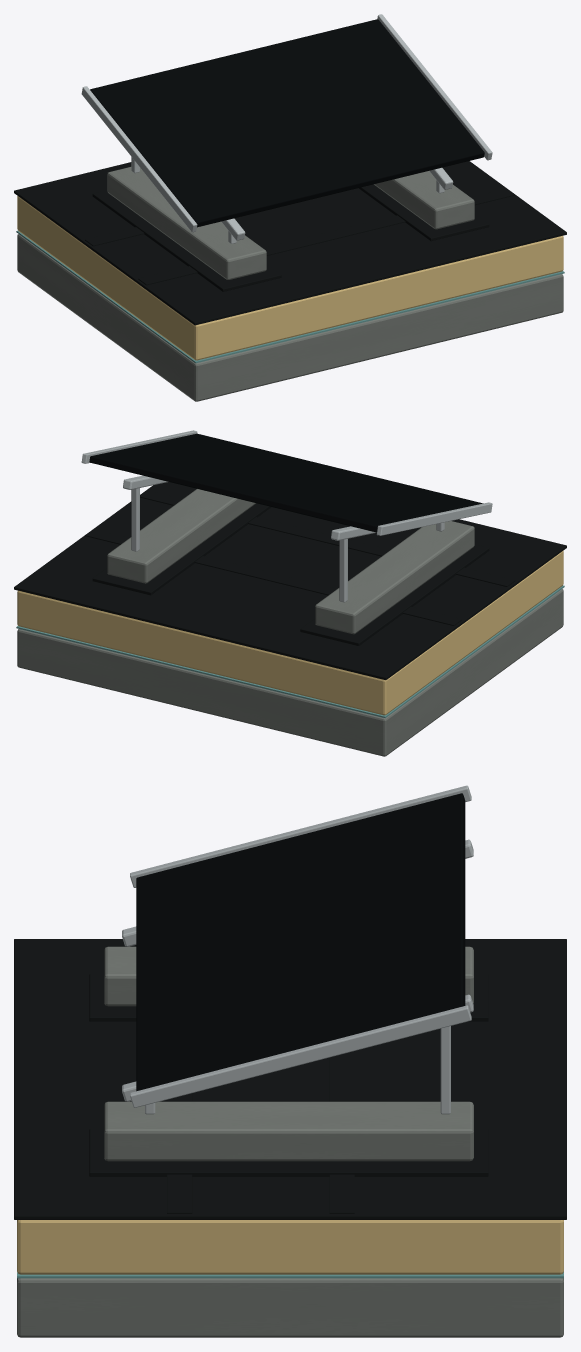
Rendered from modell.glb.
The picture shows the model from 3 angles, top to bottom: view 1: azimuth 30°, elevation 25°; view 2: azimuth 150°, elevation 25°; view 3: azimuth 270°, elevation 25°; orthographic projection. The views are drawn at different scales.
Visible parts, largest first — view 1: a01-modul_, a01-abdichtung_deckung, a01-untergrund_tragwerk, a01-daemmung_daemmung, a01-untergrund_, a01-wetteranschluss_deckung, a01-modul_.001, a01-naht_deckung, a01-luftdichtheit_luftdichtheit, a01-schiene_; view 2: a01-abdichtung_deckung, a01-untergrund_tragwerk, a01-daemmung_daemmung, a01-modul_, a01-untergrund_, a01-wetteranschluss_deckung, a01-naht_deckung, a01-modul_.001, a01-luftdichtheit_luftdichtheit, a01-halter_, a01-schiene_; view 3: a01-abdichtung_deckung, a01-modul_, a01-untergrund_tragwerk, a01-daemmung_daemmung, a01-untergrund_, a01-wetteranschluss_deckung, a01-modul_.001, a01-naht_deckung, a01-luftdichtheit_luftdichtheit, a01-halter_, a01-schiene_.
Boxes of the visible parts, box(x1,y1,x2,y2) form: a01-modul_: box(90, 19, 484, 227); a01-abdichtung_deckung: box(14, 161, 566, 325); a01-untergrund_tragwerk: box(17, 234, 563, 401); a01-daemmung_daemmung: box(17, 196, 563, 360); a01-untergrund_: box(107, 167, 474, 279); a01-wetteranschluss_deckung: box(92, 184, 489, 291); a01-modul_.001: box(81, 14, 492, 232); a01-naht_deckung: box(85, 188, 515, 285); a01-luftdichtheit_luftdichtheit: box(16, 230, 564, 363); a01-schiene_: box(221, 167, 453, 240); a01-abdichtung_deckung: box(14, 482, 566, 680); a01-untergrund_tragwerk: box(17, 589, 563, 756); a01-daemmung_daemmung: box(17, 550, 563, 715); a01-modul_: box(89, 433, 483, 532); a01-untergrund_: box(107, 489, 474, 634); a01-wetteranschluss_deckung: box(92, 503, 489, 645); a01-naht_deckung: box(85, 490, 515, 625); a01-modul_.001: box(81, 430, 492, 535); a01-luftdichtheit_luftdichtheit: box(16, 585, 564, 718); a01-halter_: box(131, 488, 444, 602); a01-schiene_: box(123, 475, 376, 540); a01-abdichtung_deckung: box(14, 939, 566, 1219); a01-modul_: box(136, 793, 465, 1091); a01-untergrund_tragwerk: box(17, 1278, 563, 1337); a01-daemmung_daemmung: box(17, 1220, 563, 1274); a01-untergrund_: box(104, 946, 473, 1161); a01-wetteranschluss_deckung: box(89, 974, 488, 1176); a01-modul_.001: box(130, 785, 471, 1107); a01-naht_deckung: box(167, 1051, 354, 1213); a01-luftdichtheit_luftdichtheit: box(17, 1272, 563, 1278); a01-halter_: box(145, 1026, 450, 1114); a01-schiene_: box(122, 839, 473, 1101).
Size of the model in its own units: 2.22 by 1.14 by 1.87.
6 materials, 1 textured.
